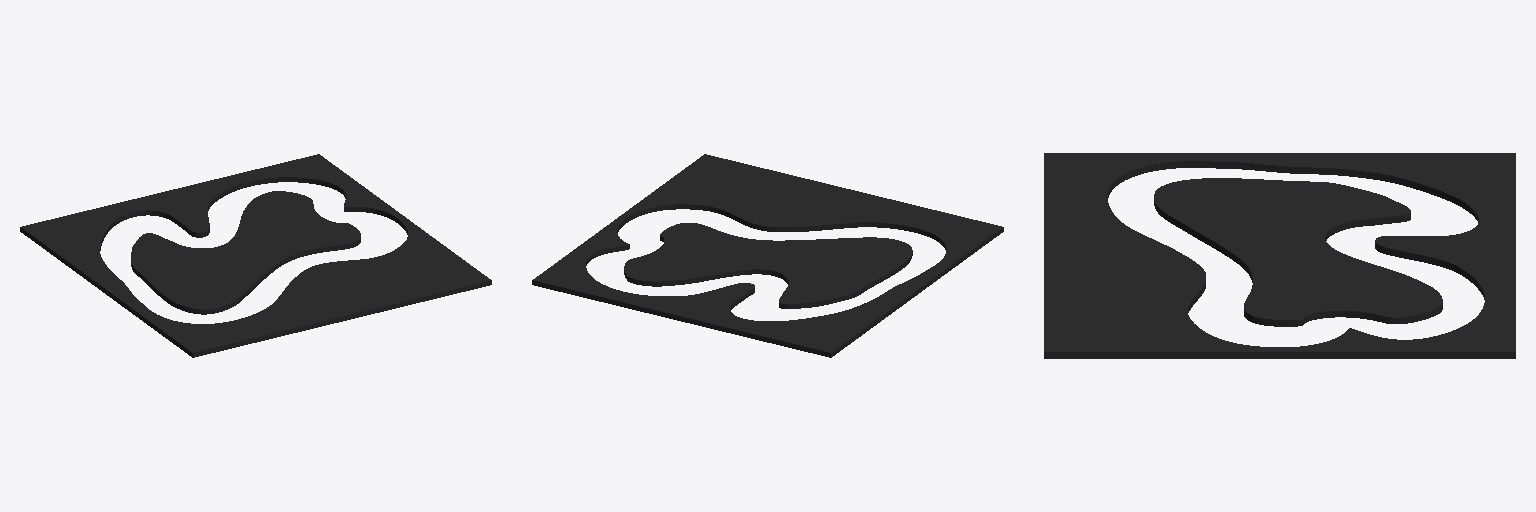
robot.urdf — race_track:
<?xml version="1.0"?> 
<robot name="race_track">

    <material name="black">
        <color rgba="0.2 0.2 0.2 0.95"/>
    </material>

    <link name="base_link">
        <visual>
            <geometry>
                <mesh filename="meshes/race_track.obj" scale="1 1 0.1"/>
            </geometry>
          <material name="black"/>
        </visual>

        <collision concave="yes" name="collision_0">
            <geometry>
                <mesh filename="meshes/race_track.obj" scale="1 1 0.1"/>
            </geometry>
        </collision>

        <inertial> 
            <mass value="0"/>
            <inertia ixx="0" ixy="0" ixz="0" iyy="0" iyz="0" izz="0"/>
        </inertial> 
    </link>
</robot>

--- Facts derived from the render (not from the file) ---
Views: 3 orthographic renders of the robot side by side, from view 1: azimuth 30°, elevation 25°; view 2: azimuth 150°, elevation 25°; view 3: azimuth 270°, elevation 25°.
Model race_track with 1 links and 0 joints (none), rooted at base_link, posed every joint at zero.
Links seen in each view (by area): view 1: base_link; view 2: base_link; view 3: base_link.
Link boxes in pixels (x1,y1,x2,y2): base_link: [20, 154, 491, 357]; base_link: [532, 154, 1003, 357]; base_link: [1044, 153, 1515, 358].
Bounding box of the posed robot: 5 × 5 × 0.08 m (x, y, z).
1 mesh visuals loaded from 1 distinct referenced files (1 OBJ).